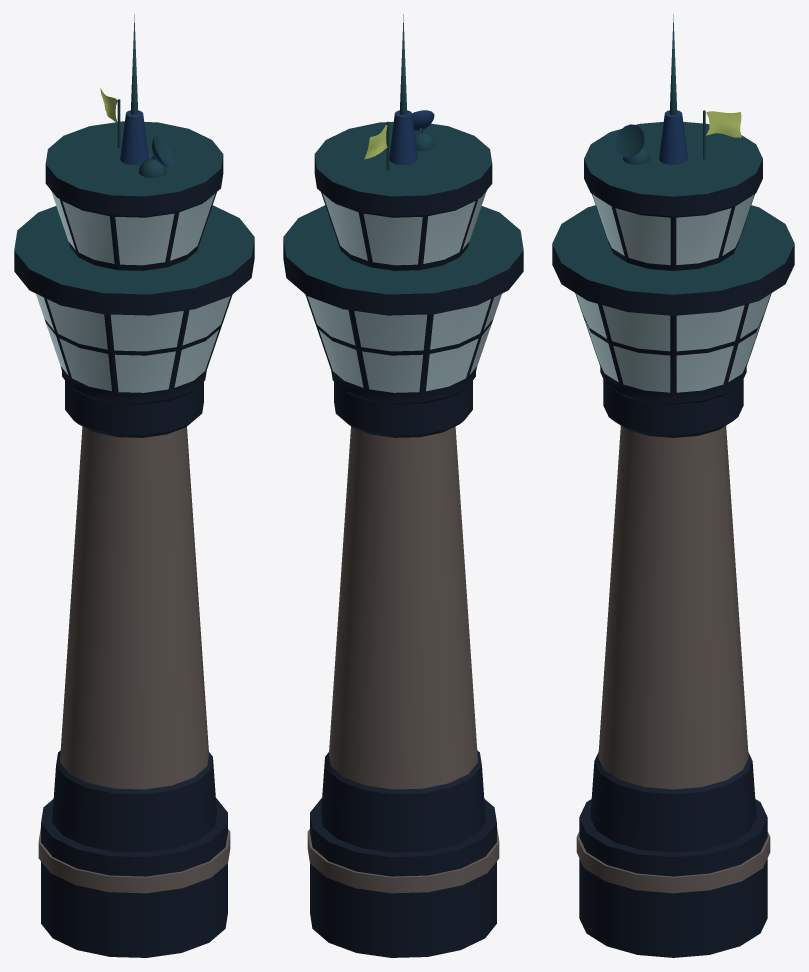
Rendered from tourdecontrole.glb.
The picture shows the model from 3 angles, left to right: view 1: azimuth 30°, elevation 25°; view 2: azimuth 150°, elevation 25°; view 3: azimuth 270°, elevation 25°; orthographic projection.
Parts seen in each view (by area): view 1: 02.ControlTower_AIRPORT_0; view 2: 02.ControlTower_AIRPORT_0; view 3: 02.ControlTower_AIRPORT_0.
Boxes of the visible parts, box(x1,y1,x2,y2) form: 02.ControlTower_AIRPORT_0: box(14, 14, 254, 957); 02.ControlTower_AIRPORT_0: box(283, 14, 523, 957); 02.ControlTower_AIRPORT_0: box(552, 14, 794, 957).
Bounding box in the file's own units: 24.45 × 101 × 24.45.
Materials: 1 (1 with a texture image).
